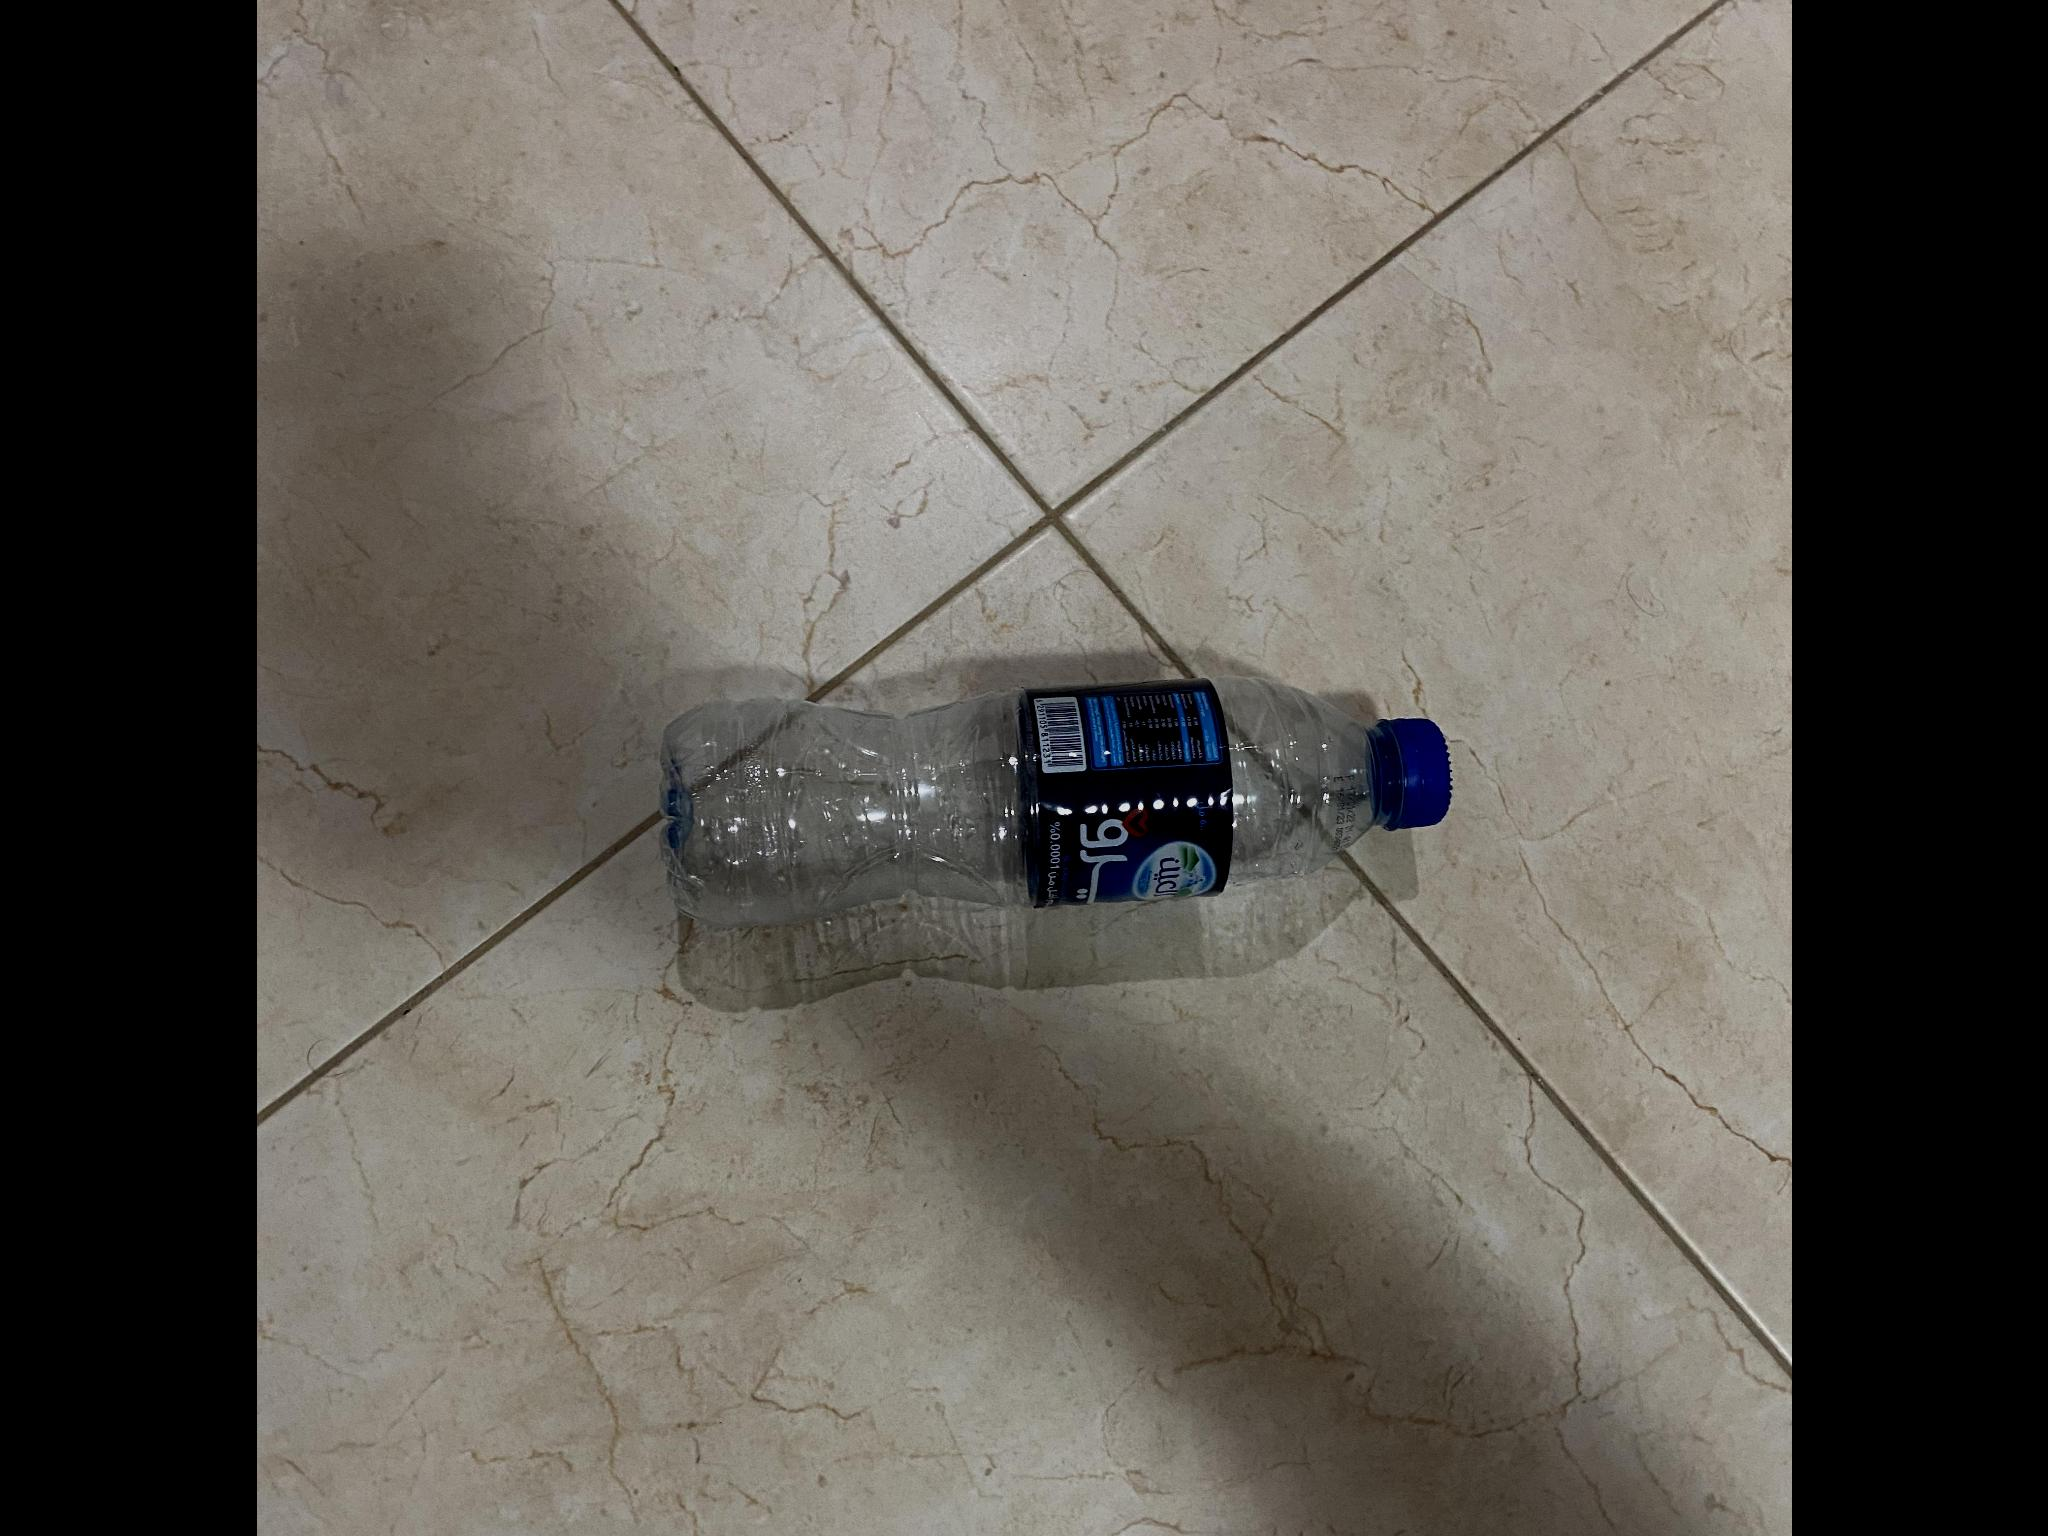bottle: (635, 662, 1464, 900)
